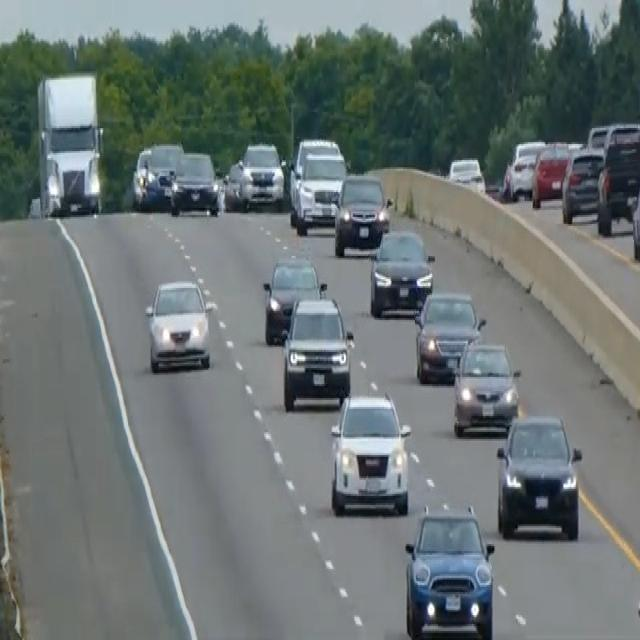car: (403, 502, 495, 638), (495, 410, 582, 540), (281, 292, 354, 411), (413, 288, 485, 384), (144, 276, 214, 374), (451, 338, 521, 436), (369, 226, 435, 316), (262, 252, 325, 345), (332, 171, 392, 256), (291, 149, 347, 233), (596, 130, 639, 233), (131, 140, 183, 210), (169, 149, 220, 217), (561, 144, 604, 222), (241, 139, 285, 208), (531, 139, 570, 208), (503, 137, 545, 201), (291, 135, 340, 181), (447, 154, 486, 193), (222, 158, 249, 212), (586, 121, 611, 155)
jeep: (327, 386, 413, 517)
lorry: (35, 69, 105, 217)
